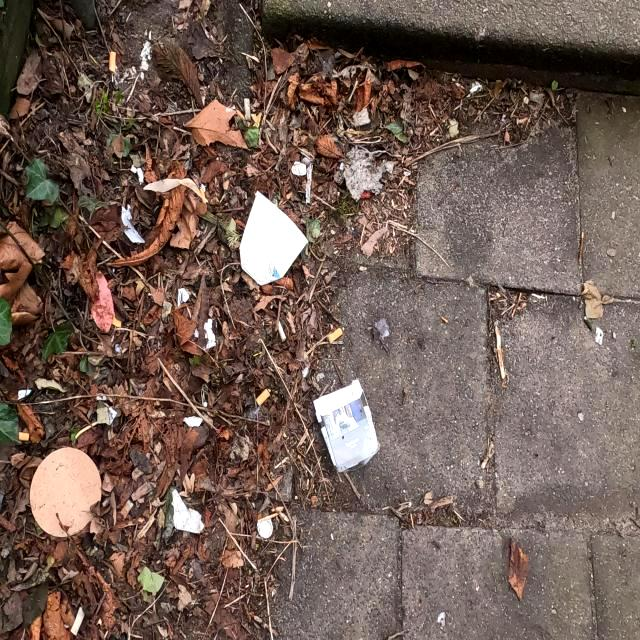Coffee Cup: (236, 188, 310, 288)
